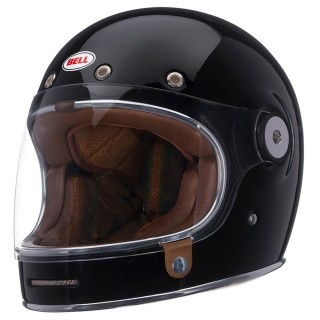with_helmet: (7, 5, 308, 313)
